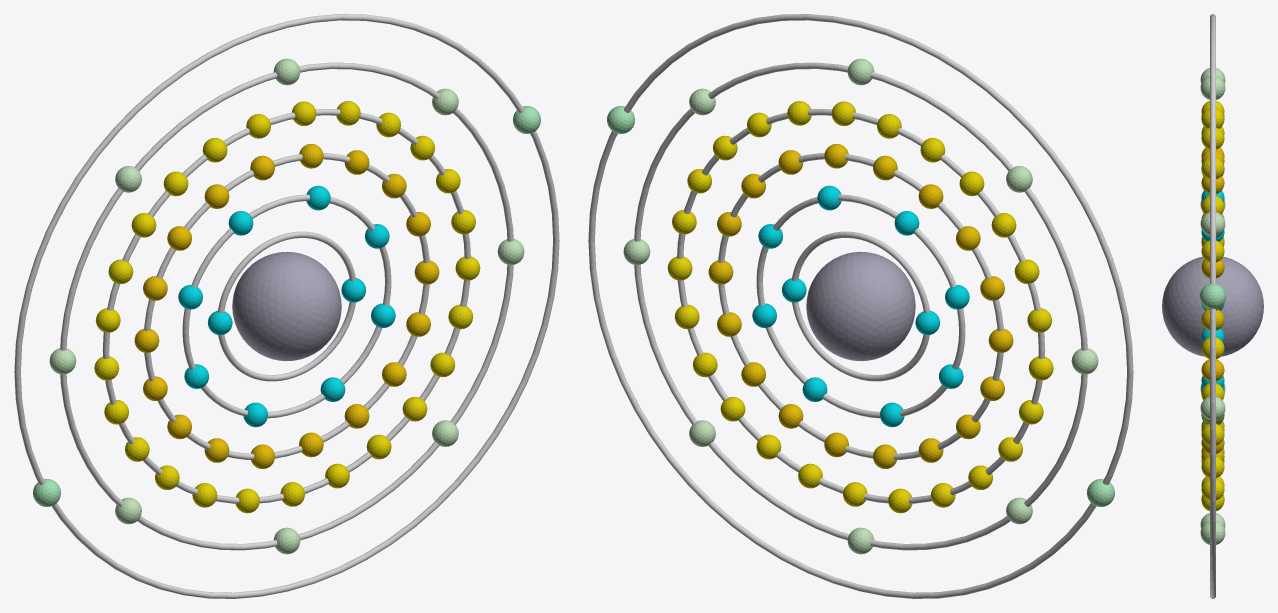
The picture shows the model from 3 angles, left to right: view 1: azimuth 30°, elevation 25°; view 2: azimuth 150°, elevation 25°; view 3: azimuth 270°, elevation 25°; orthographic projection. The views are drawn at different scales.
Parts seen in each view (by area): view 1: world; view 2: world; view 3: world.
Boxes of the visible parts, x1,y1,x2,y2 form: world: (14,14,559,598); world: (588,14,1133,598); world: (1162,14,1263,598).
Bounding box in the file's own units: 2.53 × 2.53 × 0.44.
